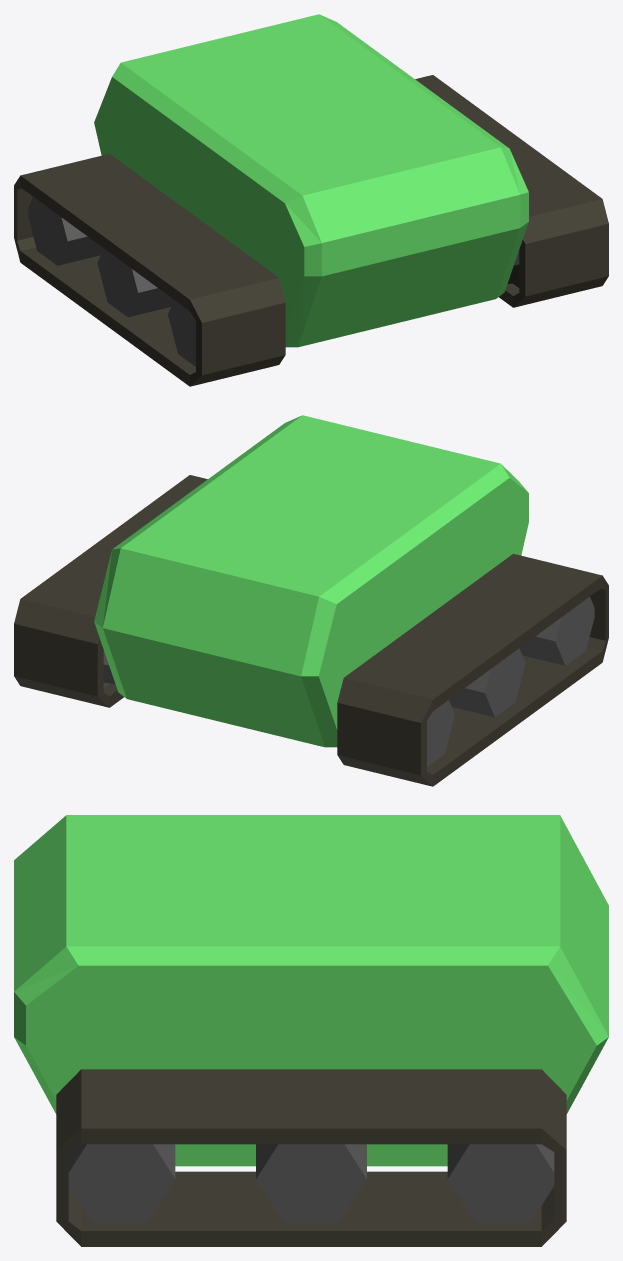
The model's file is Body_.glb.
3 views of the same model, one above another, from view 1: azimuth 30°, elevation 25°; view 2: azimuth 150°, elevation 25°; view 3: azimuth 270°, elevation 25° (orthographic). The views are drawn at different scales.
Parts seen in each view (by area): view 1: Cube; view 2: Cube; view 3: Cube.
Boxes of the visible parts, <box> form: Cube: <box>14,14,608,386</box>; Cube: <box>14,415,608,786</box>; Cube: <box>14,815,608,1246</box>.
Bounding box in the file's own units: 0.4056 × 0.1586 × 0.3729.
